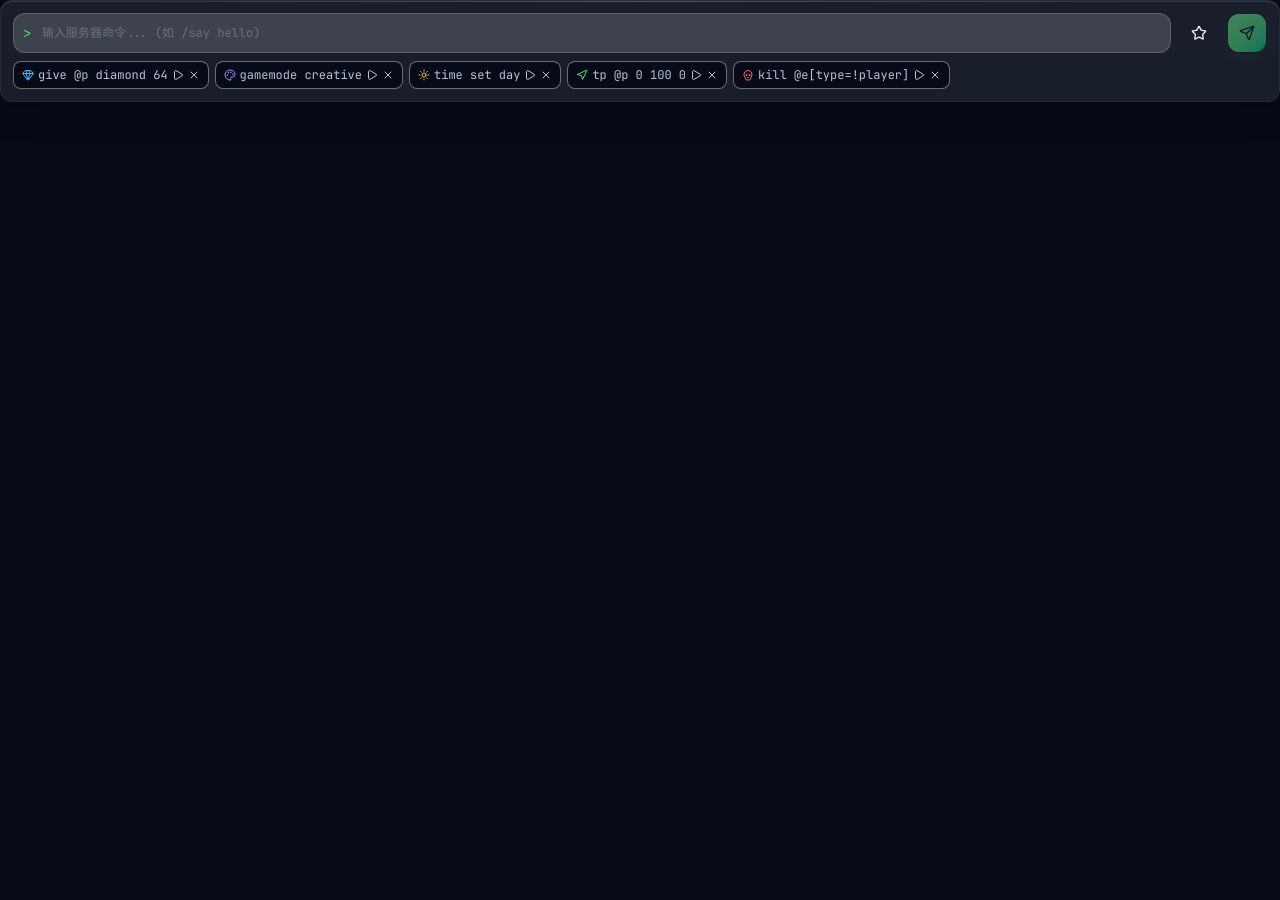
Test: CommandInput › 偏好未拉回时的写入闸门 › 未拉取完成时保存快捷指令 → 提示失败，且不发写请求
In the field named "服务器命令输入": (592, 33) [13,13,1171,53], type "say new-preset"
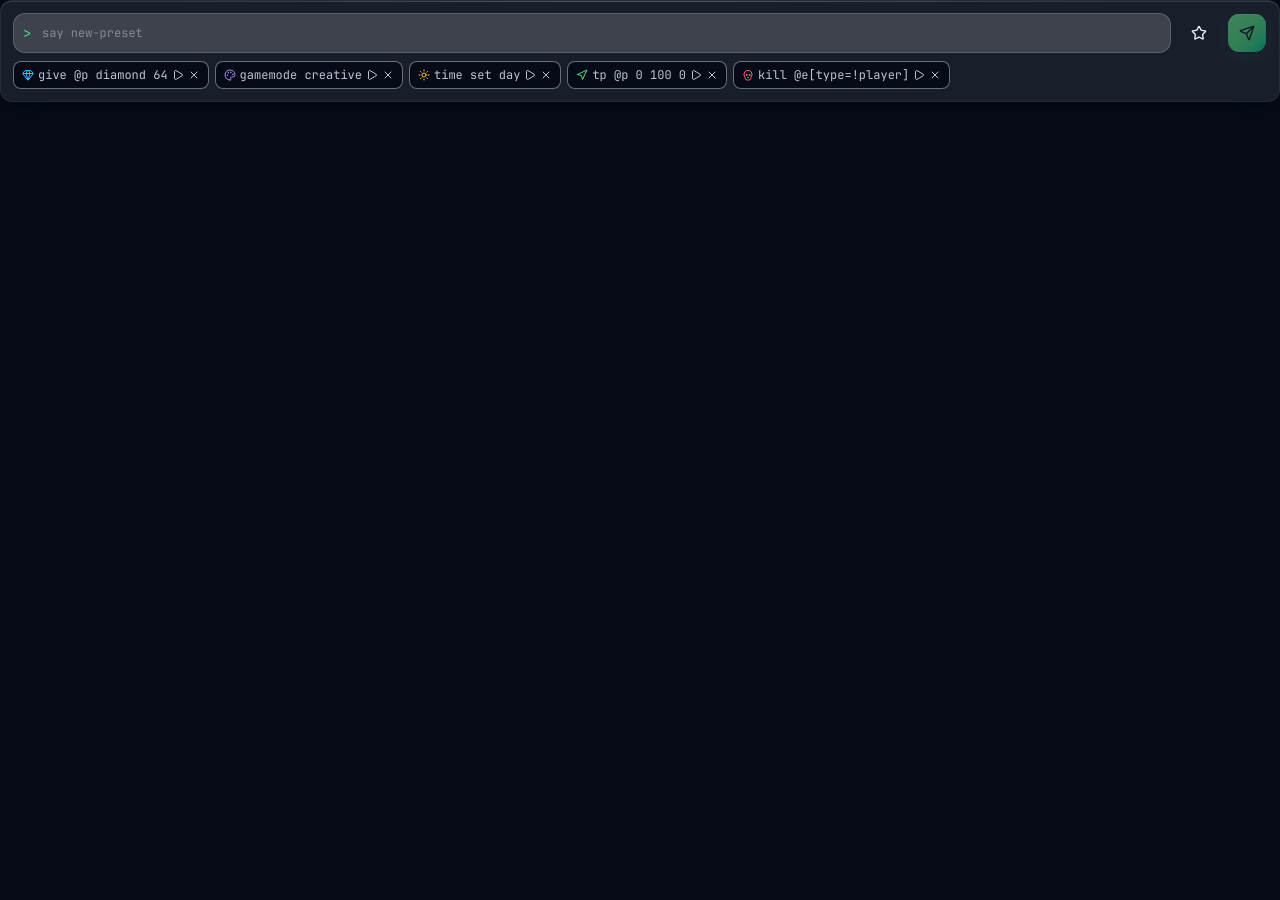
Click the button named "存为预设": (1199, 33) [1179,13,1219,53]
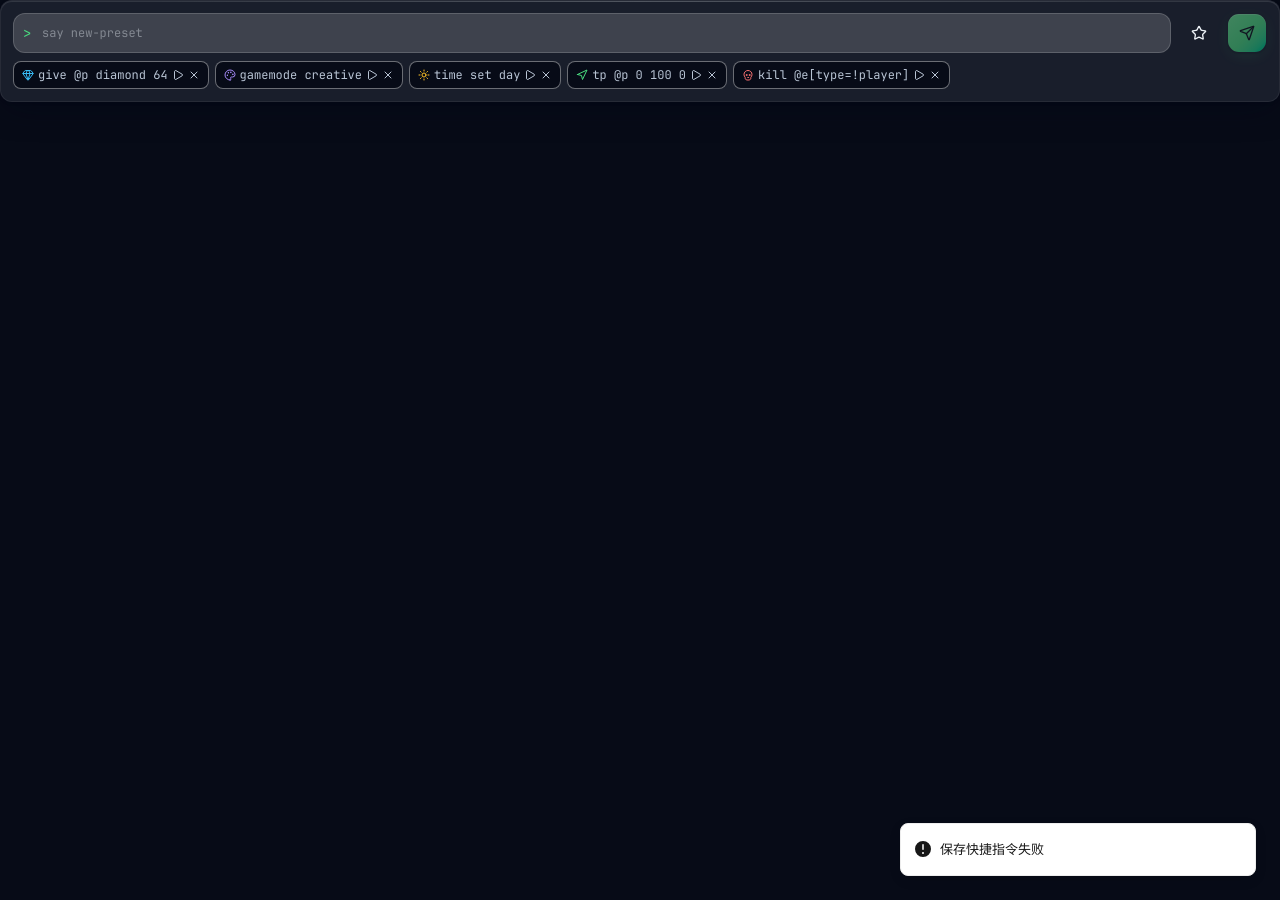
Expected: the text "保存快捷指令失败" is shown, [940,840,1044,859]
